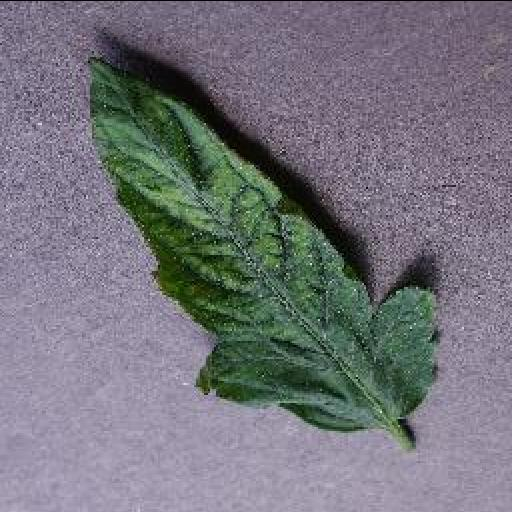Mosaic Virus: (82, 58, 442, 434)
